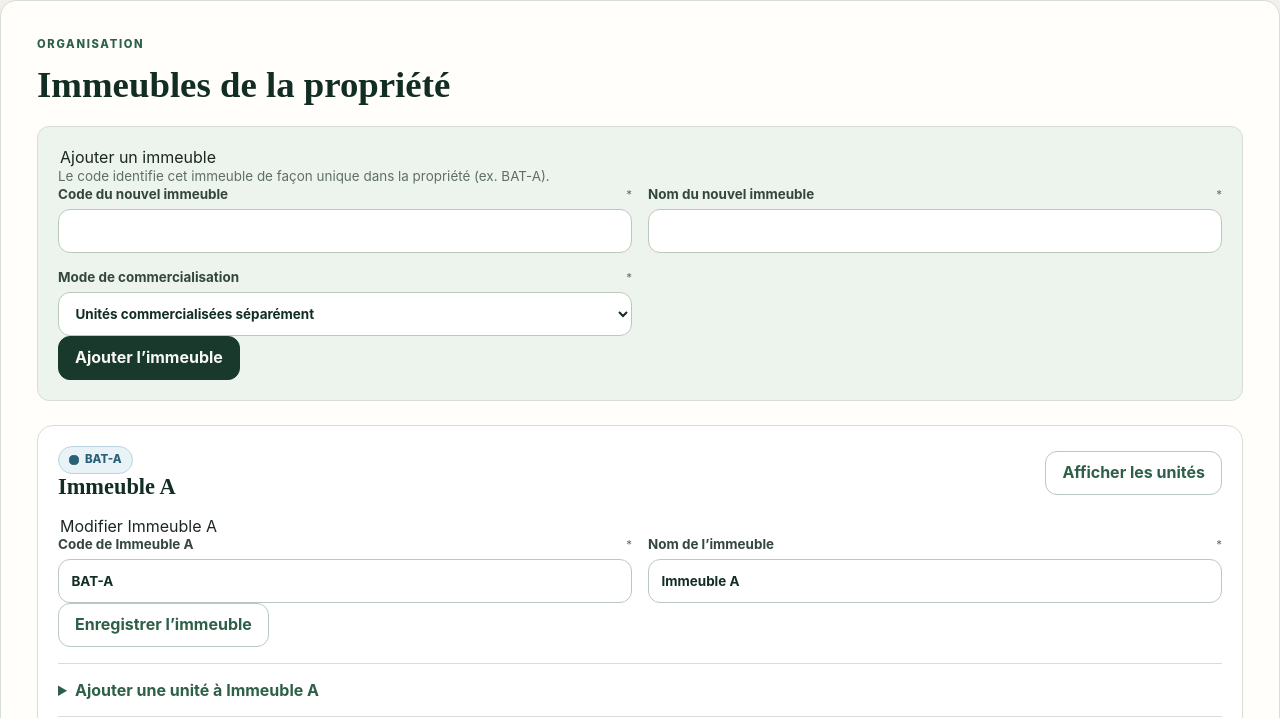
Composition du bien Web › consulte, modifie et pagine les Units avec un curseur opaque
Check: the element "Modifier Immeuble A" is shown, box [58,516,1222,647]
Click the button "Afficher les unités".
click(1134, 473)  # box [1045,451,1222,495]
(page scrolled)
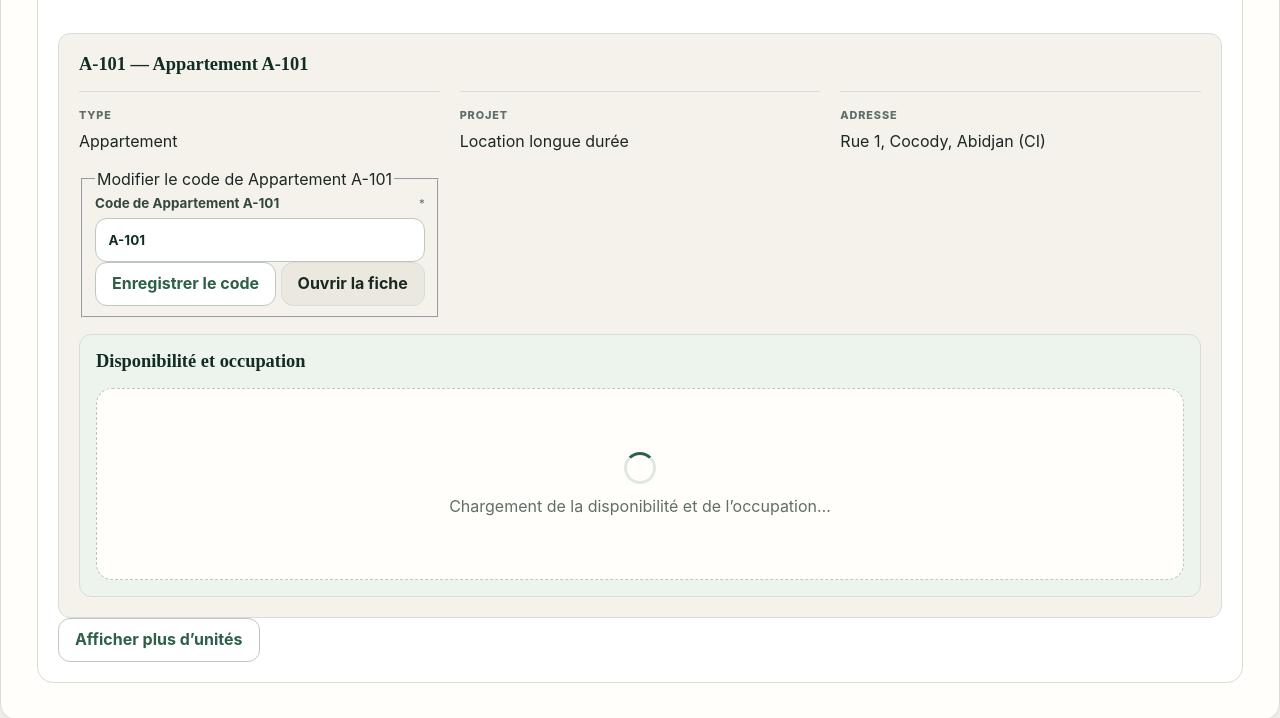
Click the button "Afficher plus d’unités".
click(159, 640)  # box [58,618,260,662]
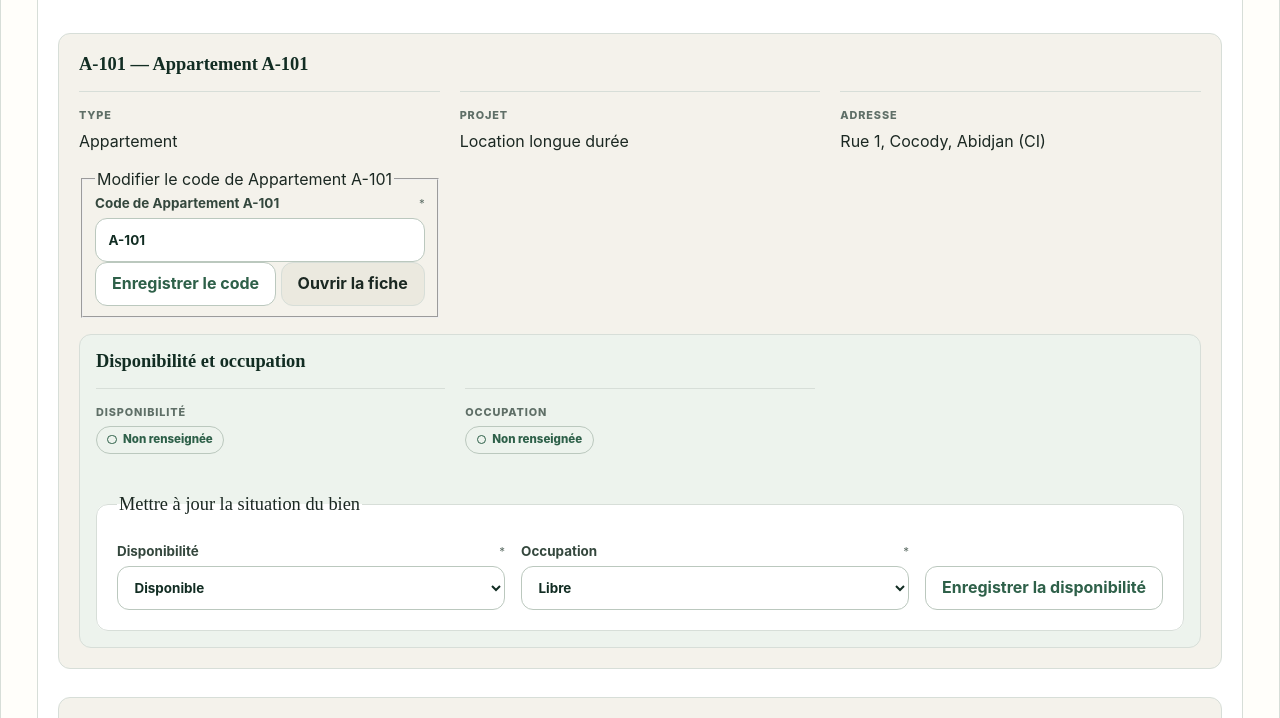
Check: the number of elements "Modifier le code de Appartement A-101" is 1, box [81,169,439,318]
Replace the text in the field labelled "Code de Appartement A-101" with "A-110" at {"x": 260, "y": 240}, box [95,218,425,262]
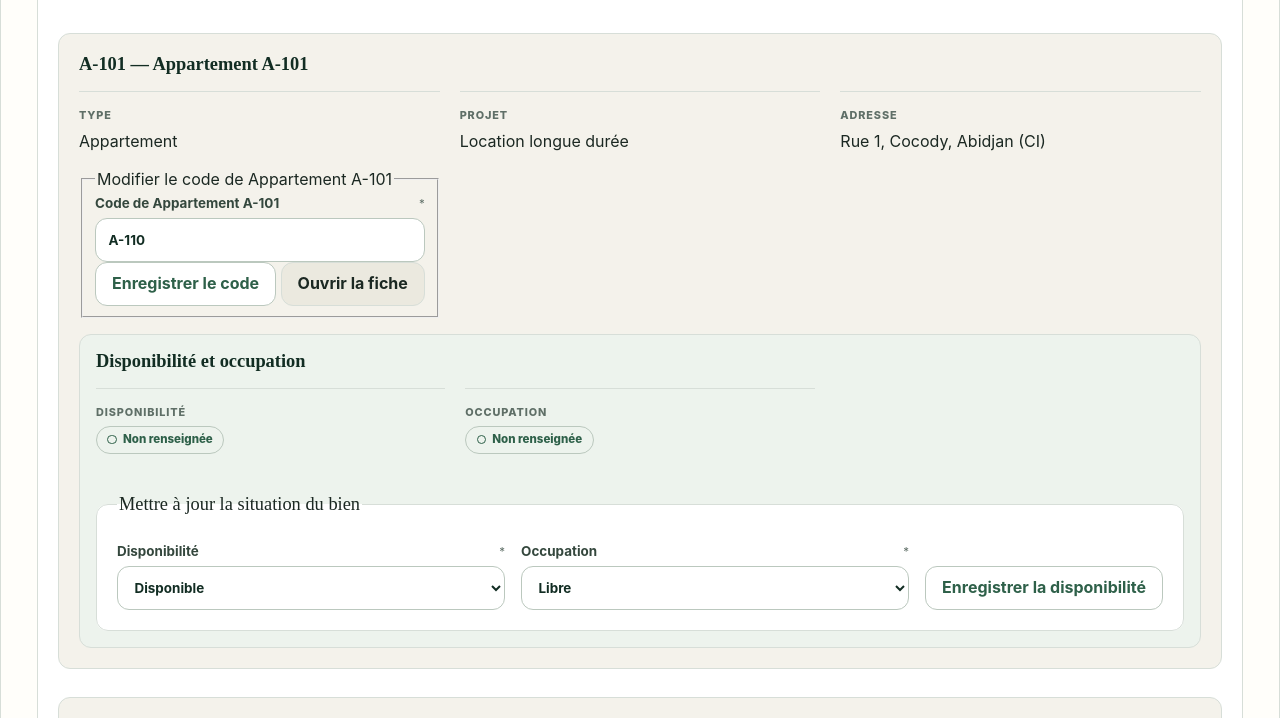
Click the button "Enregistrer le code".
click(186, 284)  # box [95,262,276,306]
(page scrolled)
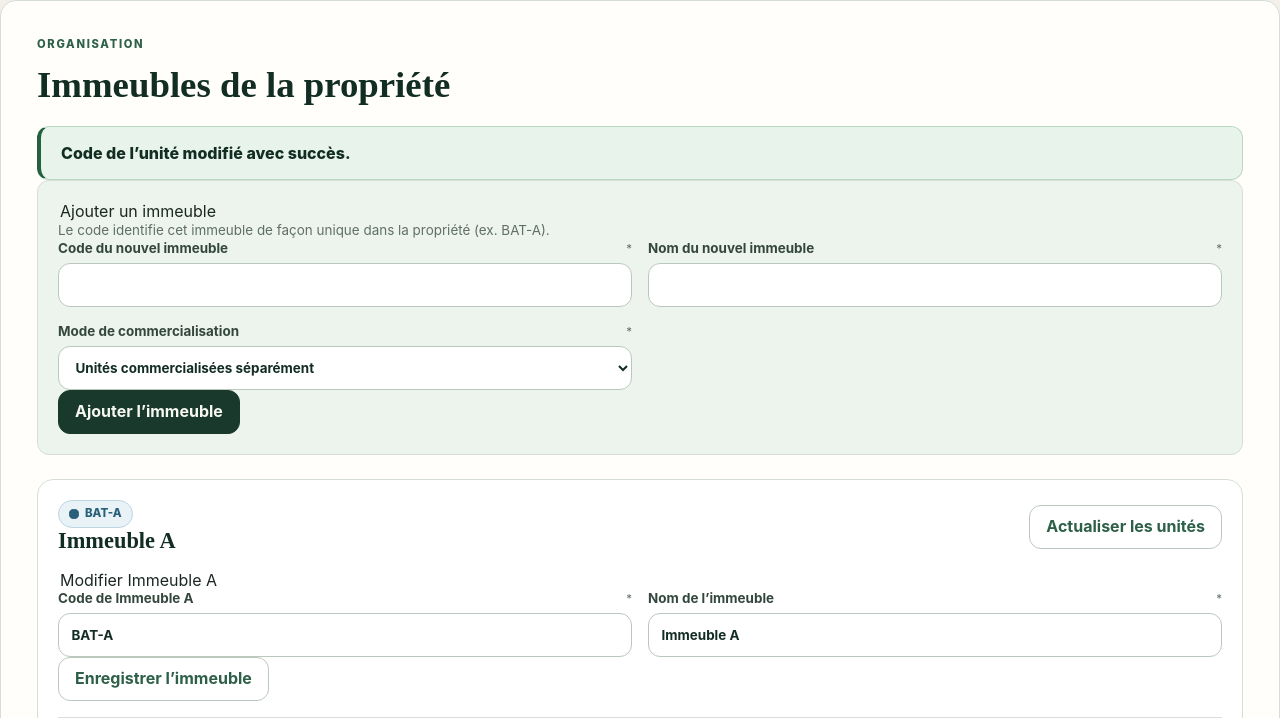
Check: the heading "Code de l’unité modifié avec succès." is shown, box [61,143,350,163]
